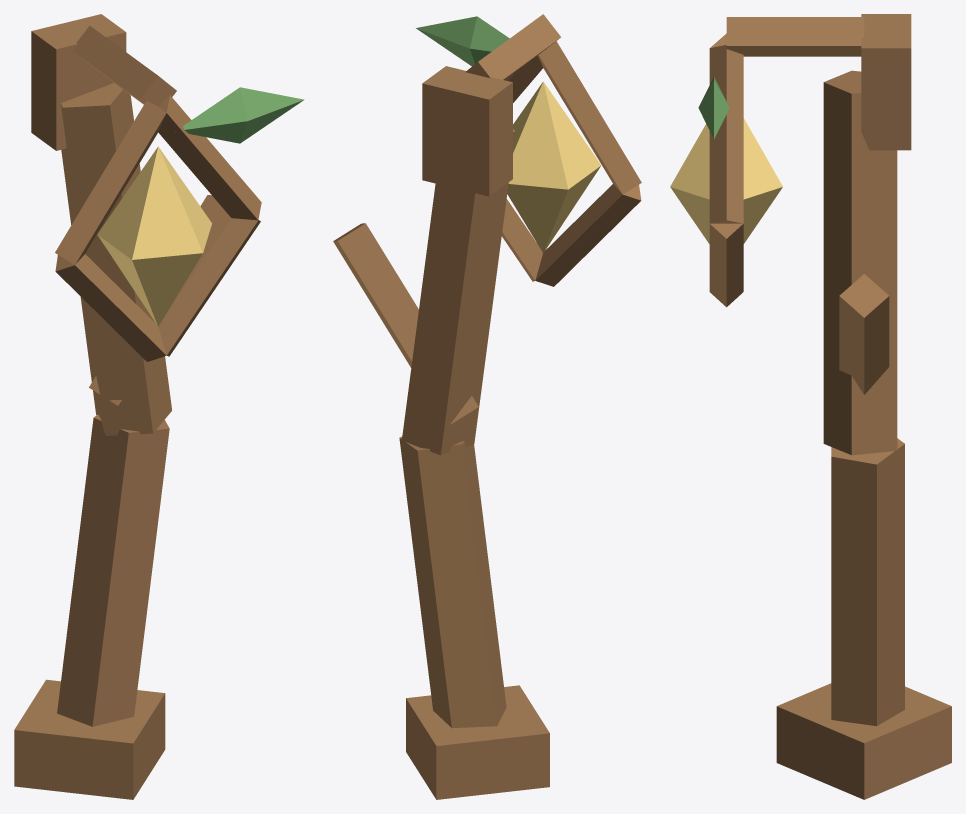
The model's file is Forest_LampPost.fbx.
The picture shows the model from 3 angles, left to right: view 1: azimuth 30°, elevation 25°; view 2: azimuth 150°, elevation 25°; view 3: azimuth 270°, elevation 25°; orthographic projection. The views are drawn at different scales.
Parts seen in each view (by area): view 1: Forest_LampPost; view 2: Forest_LampPost; view 3: Forest_LampPost.
Boxes of the visible parts, left/top/right/bottom form: Forest_LampPost: left=14, top=14, right=304, bottom=799; Forest_LampPost: left=333, top=14, right=641, bottom=799; Forest_LampPost: left=670, top=14, right=951, bottom=799.
Bounding box in the file's own units: 47.36 × 132 × 45.04.
